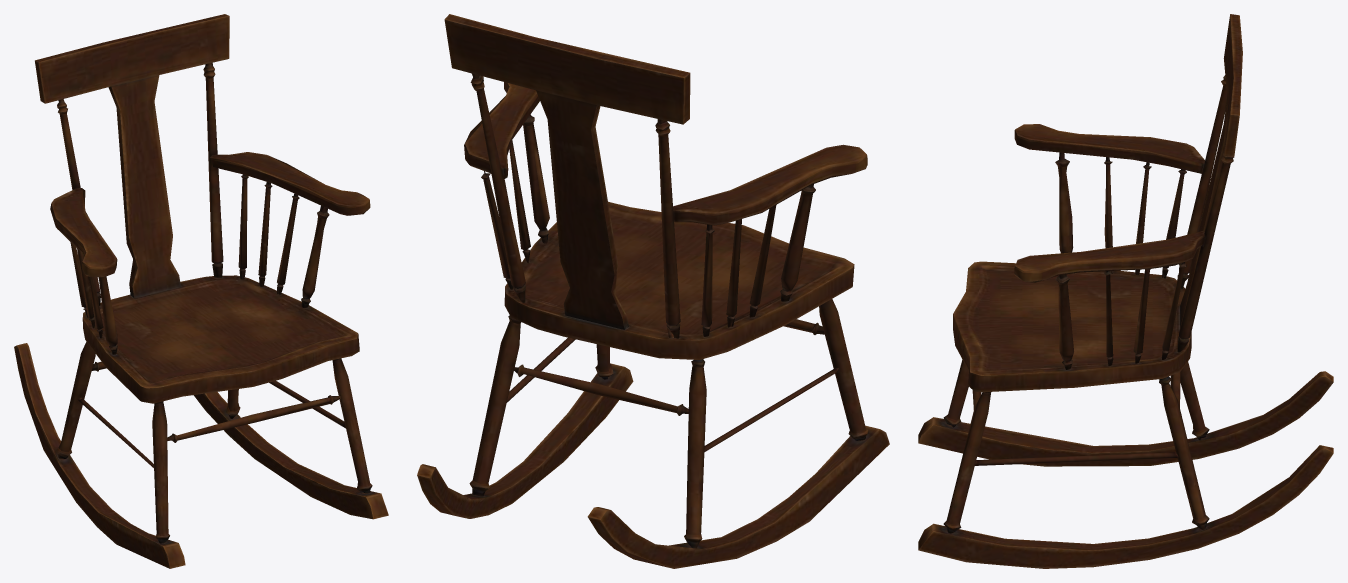
File: Rockingchair_01.glb
The picture shows the model from 3 angles, left to right: view 1: azimuth 30°, elevation 25°; view 2: azimuth 150°, elevation 25°; view 3: azimuth 270°, elevation 25°; orthographic projection. The views are drawn at different scales.
Parts seen in each view (by area): view 1: Rockingchair_01; view 2: Rockingchair_01; view 3: Rockingchair_01.
Boxes of the visible parts, bbox=[...] form: Rockingchair_01: bbox=[14, 14, 388, 568]; Rockingchair_01: bbox=[417, 14, 889, 568]; Rockingchair_01: bbox=[918, 14, 1333, 568].
Bounding box in the file's own units: 0.7081 × 0.9949 × 0.8335.
1 material, 1 textured.
